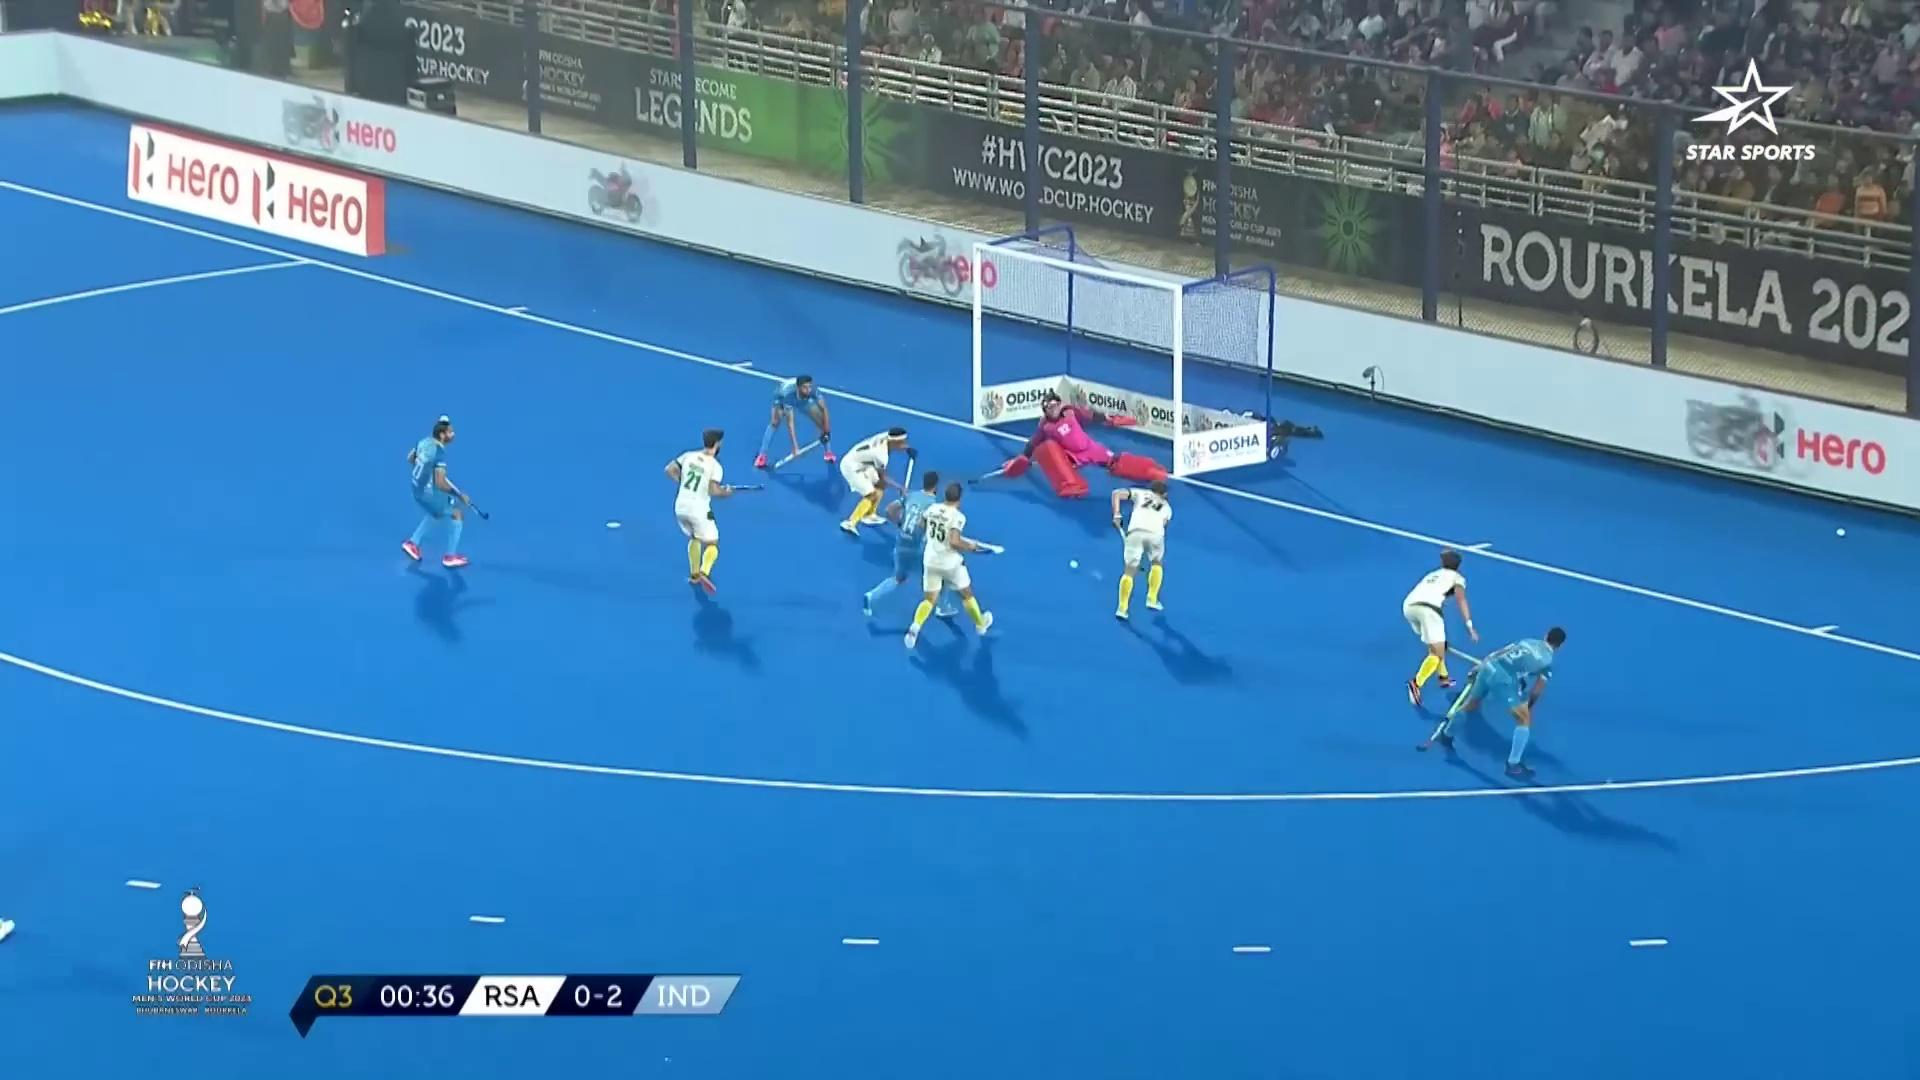ball: (1058, 551, 1096, 574)
